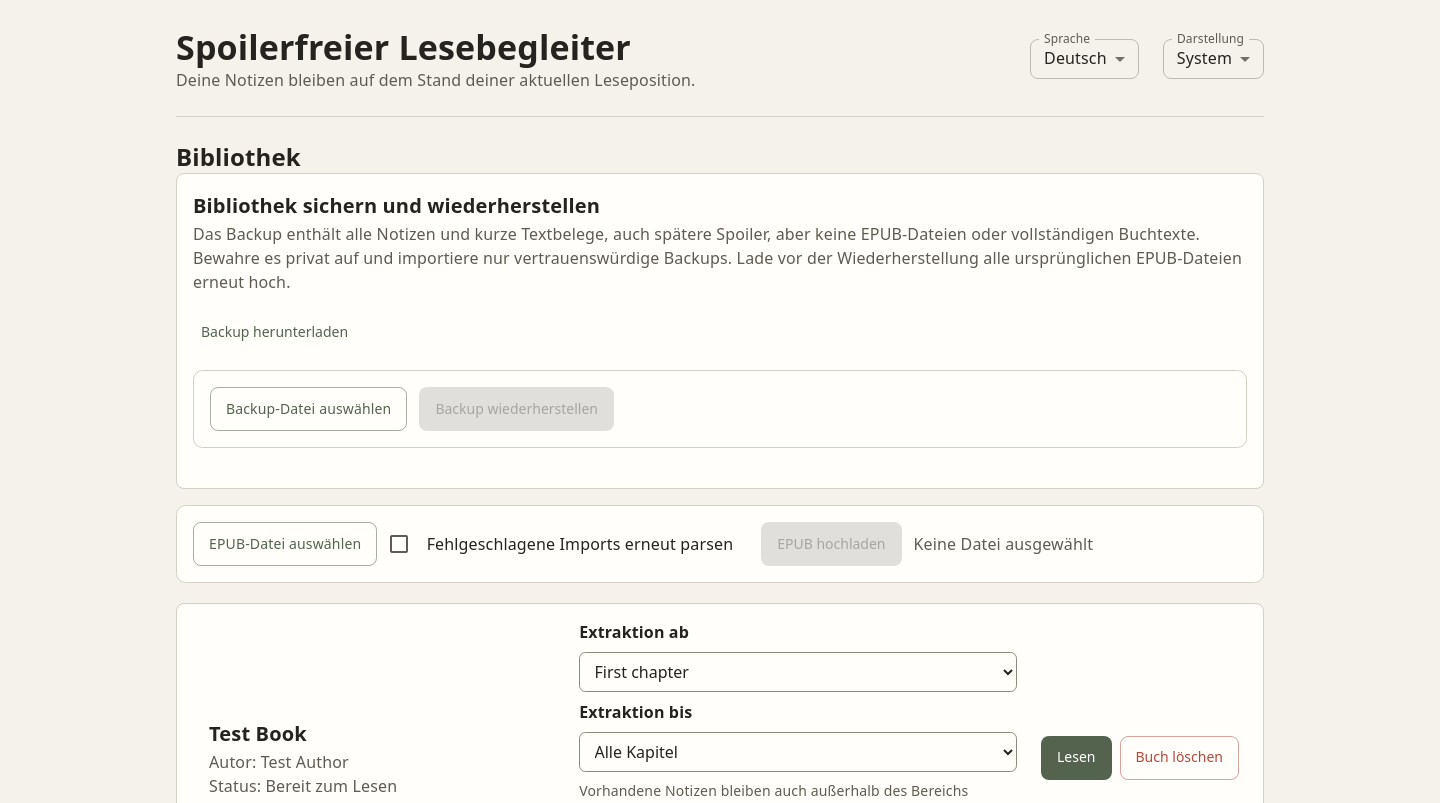
Test: App › starts extraction for a parsed book through the selected chapter
Step 1. Select "Second chapter" in the dropdown labelled "Extraktion bis" → (798, 752), box [579,732,1017,772]
(page scrolled)
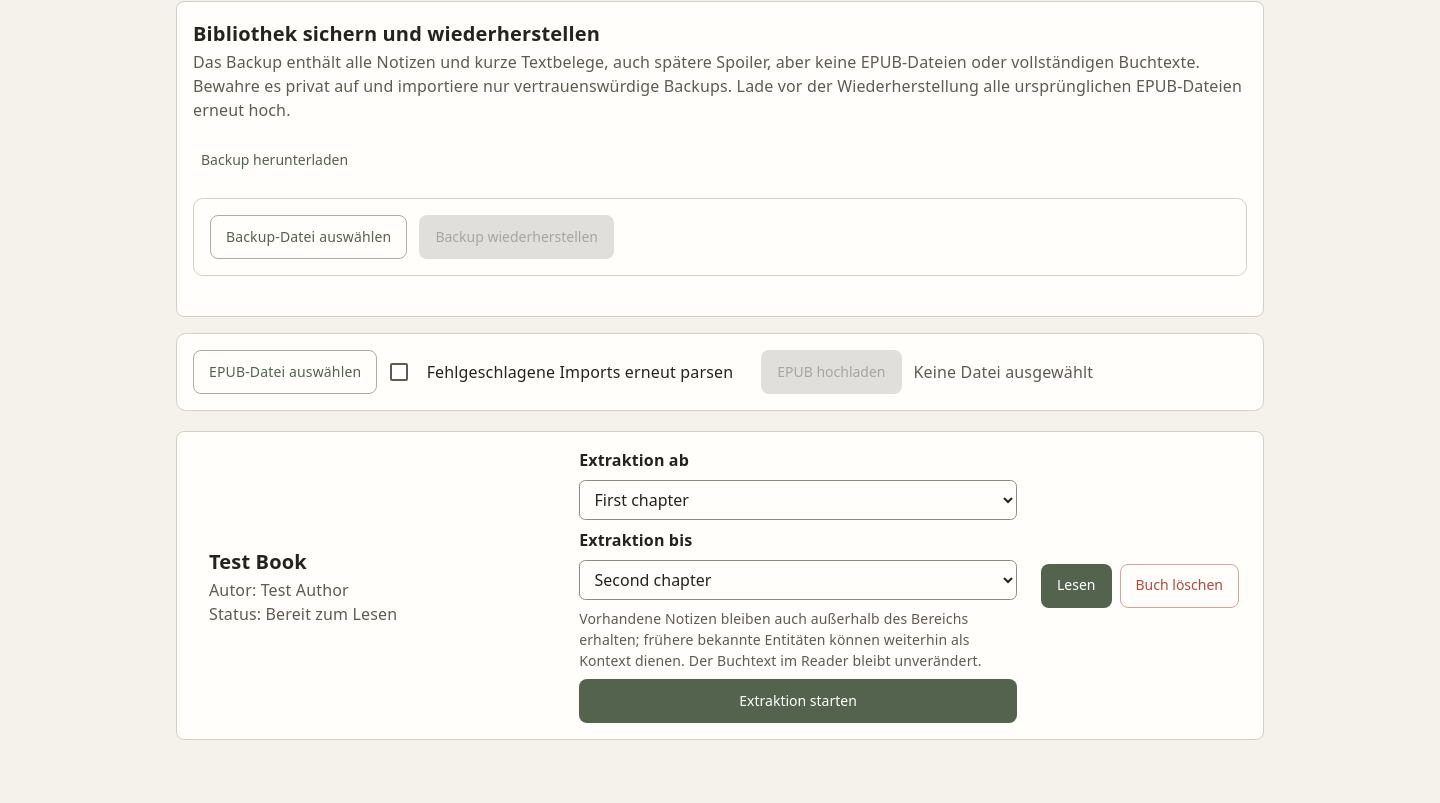
Step 2. Click the button "Extraktion starten" → (798, 701), box [579,679,1017,723]
(page scrolled)
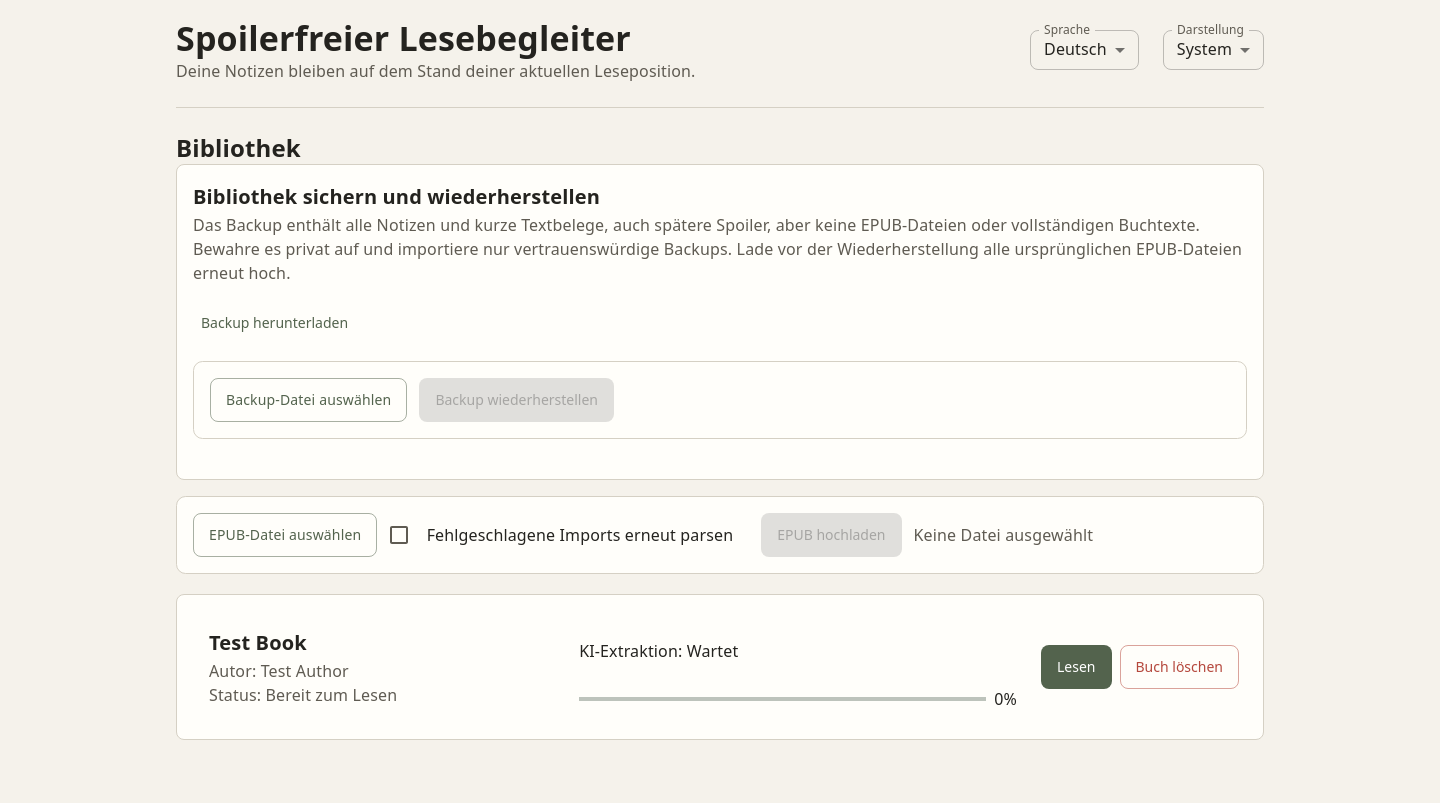
Expected: the text "KI-Extraktion: Wartet" is shown, [579,640,738,662]
Expected: the button "Extraktion starten" is gone
